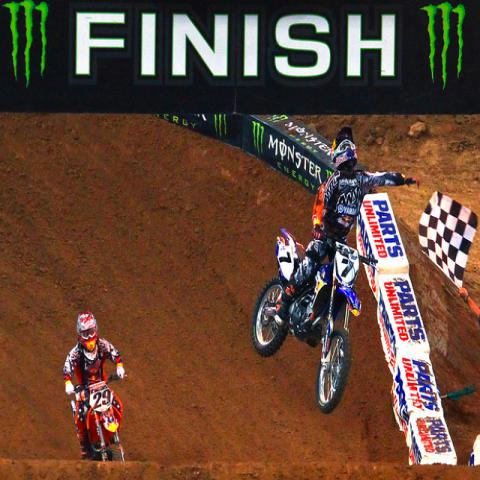motorcycle: (253, 242, 373, 412), (74, 374, 125, 462)
